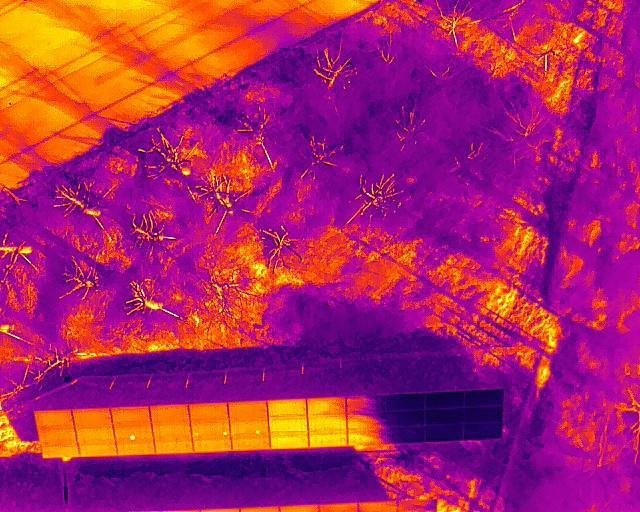Cell: (231, 418, 269, 435), (114, 422, 152, 439)
Cell-Multi: (190, 420, 230, 436)
No-Anomaly: (269, 415, 308, 434), (308, 396, 346, 415), (268, 399, 307, 417), (190, 402, 229, 420), (150, 404, 189, 422), (35, 409, 74, 427), (72, 408, 112, 425), (308, 414, 345, 432), (229, 402, 268, 419), (230, 434, 269, 451), (110, 407, 151, 423), (79, 439, 117, 456), (153, 422, 192, 438), (76, 424, 115, 440), (270, 433, 309, 449), (117, 439, 156, 455), (156, 437, 193, 453), (192, 437, 231, 452), (310, 433, 346, 449), (42, 440, 78, 456), (38, 425, 76, 440)
Shadowing: (381, 394, 424, 413), (424, 390, 466, 408), (382, 413, 426, 430), (307, 396, 346, 415), (425, 408, 466, 426), (426, 426, 466, 444), (466, 390, 503, 408), (465, 407, 502, 425), (345, 397, 381, 415), (347, 414, 383, 432), (382, 431, 425, 446), (466, 426, 502, 440), (346, 433, 382, 446)
